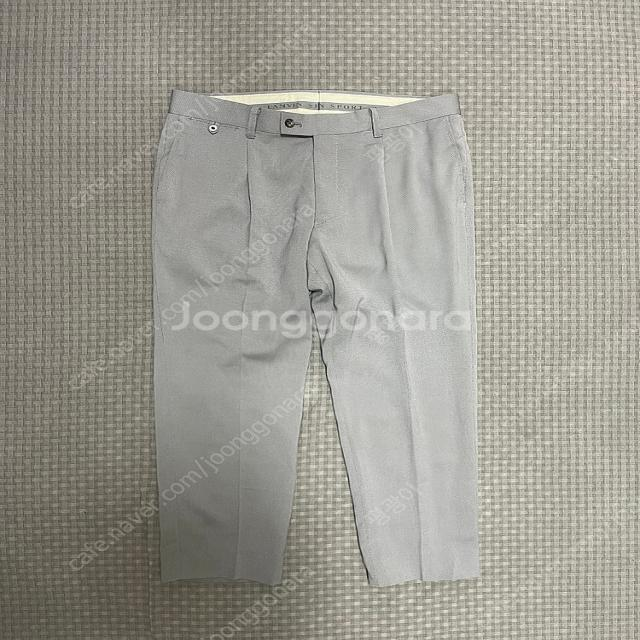long-pants: (151, 91, 481, 590)
